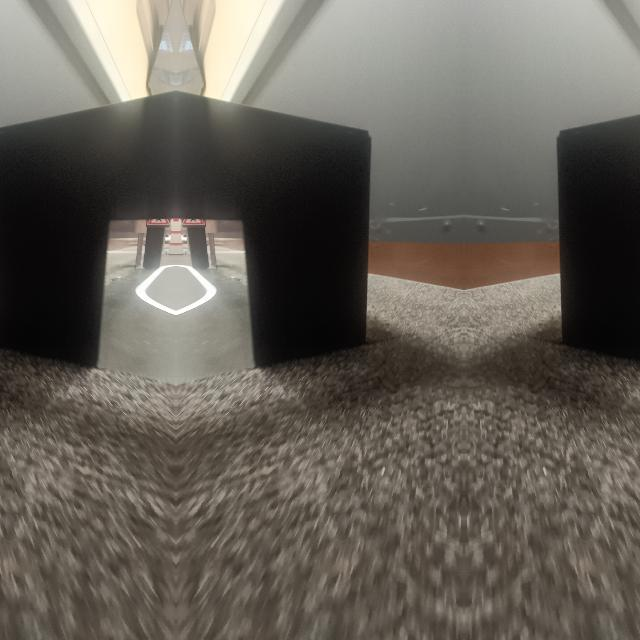obstacle: (176, 90, 368, 362), (0, 89, 173, 362), (559, 89, 640, 362)
